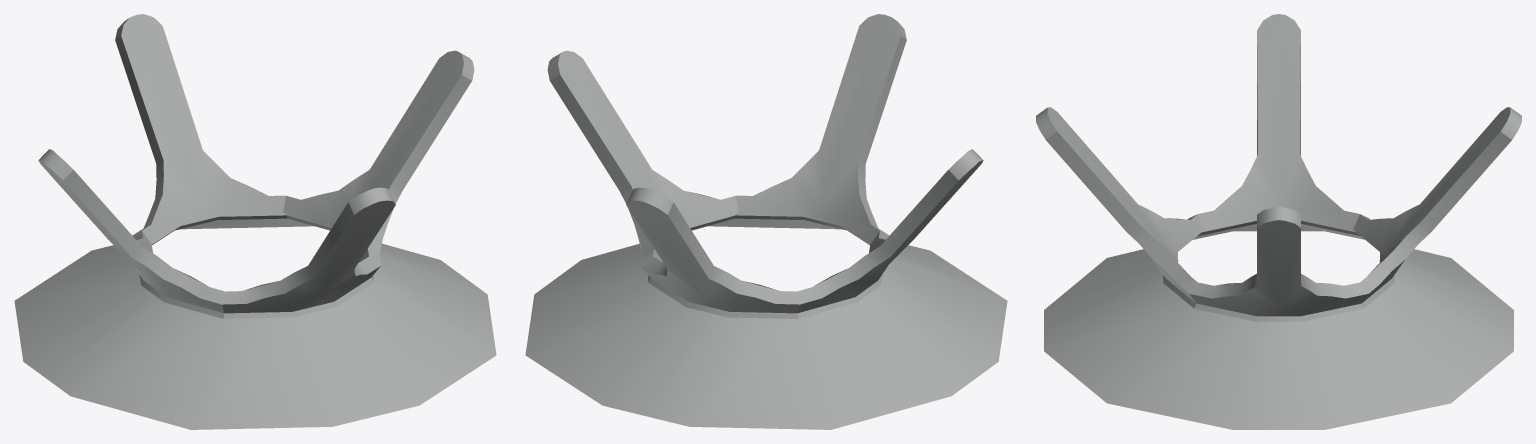
File: SEVENTEEN_03.glb
3 renders of one model, left to right at view 1: azimuth 30°, elevation 25°; view 2: azimuth 150°, elevation 25°; view 3: azimuth 270°, elevation 25°, orthographic. The views are drawn at different scales.
Bounding box in the file's own units: 0.1609 × 0.0817 × 0.1629.
Materials: 1 (1 with a texture image).
